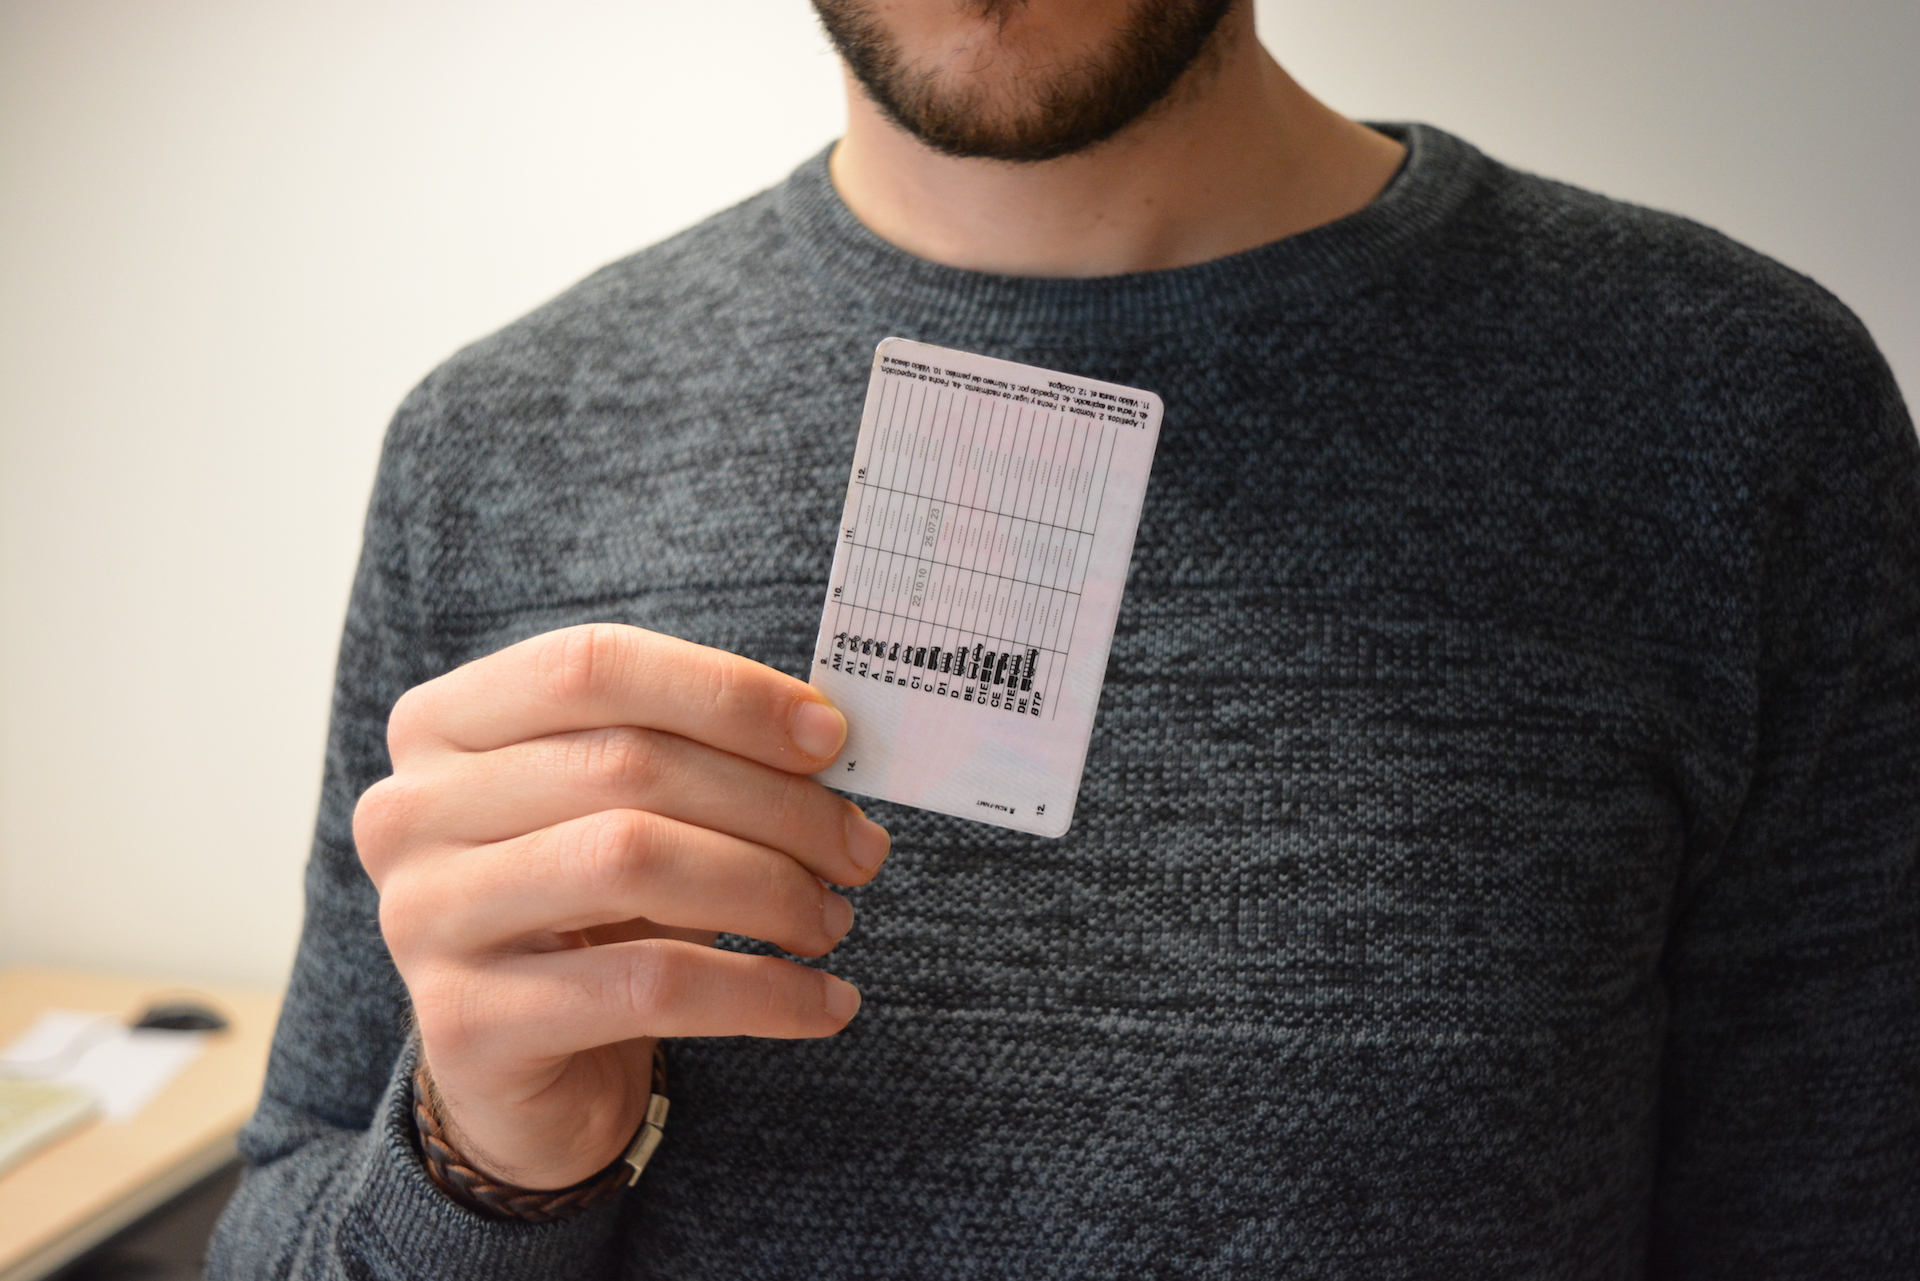tarjeta: (803, 332, 1167, 841)
